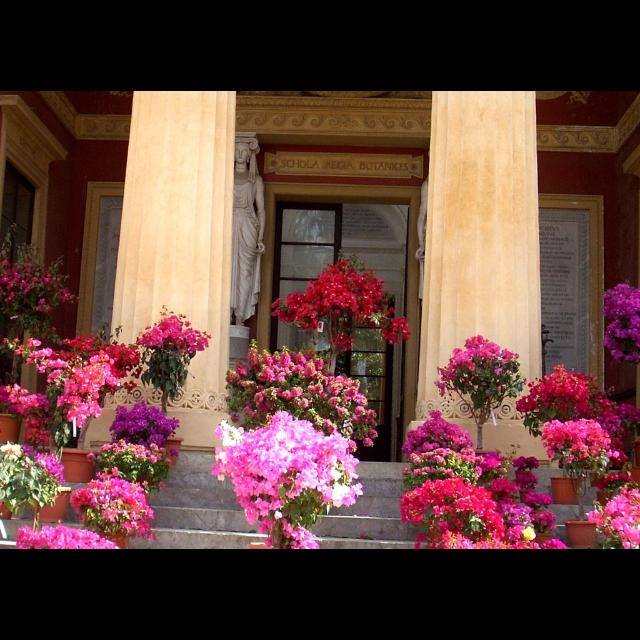Flower: (214, 346, 378, 548), (401, 408, 563, 548), (518, 370, 640, 548), (0, 333, 146, 441), (272, 254, 411, 350), (88, 401, 182, 489), (435, 334, 527, 398), (66, 469, 150, 537), (0, 243, 70, 315), (604, 280, 640, 362), (141, 310, 207, 352), (14, 524, 120, 548), (17, 444, 67, 484)
